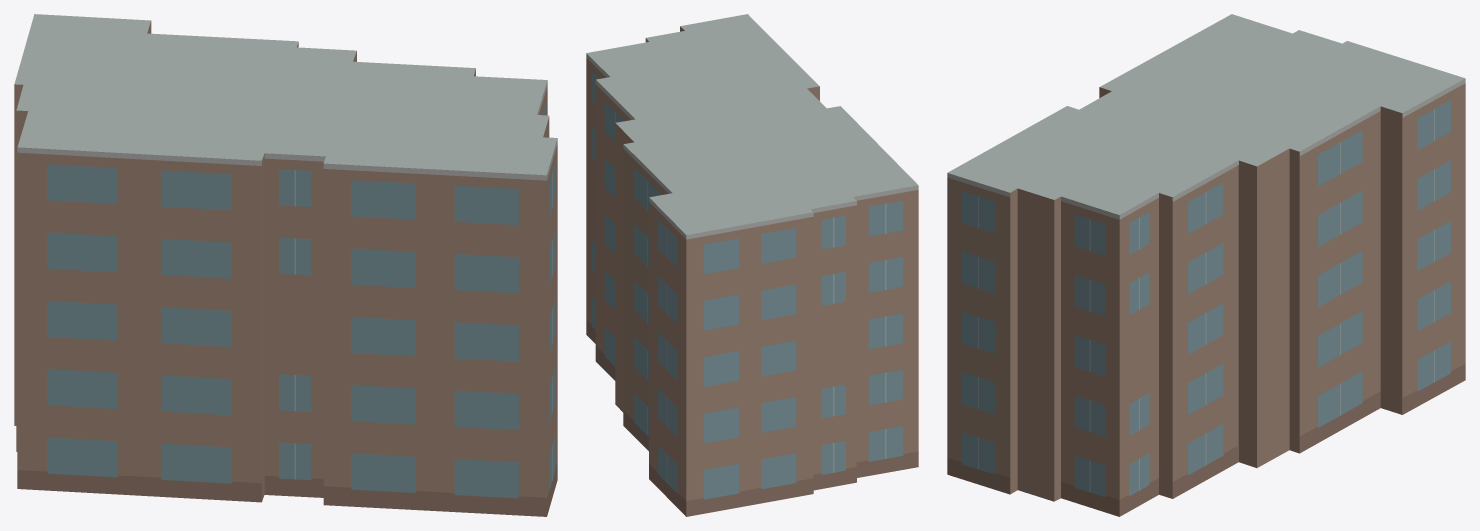
Rendered from survey-upis-32673579.glb.
3 views of the same model, side by side, from view 1: azimuth 30°, elevation 25°; view 2: azimuth 150°, elevation 25°; view 3: azimuth 270°, elevation 25° (orthographic). The views are drawn at different scales.
Parts seen in each view (by area): view 1: survey-upis-32673579.tmp; view 2: survey-upis-32673579.tmp; view 3: survey-upis-32673579.tmp.
Boxes of the visible parts, left/top/right/bottom form: survey-upis-32673579.tmp: left=14, top=14, right=557, bottom=516; survey-upis-32673579.tmp: left=586, top=14, right=918, bottom=516; survey-upis-32673579.tmp: left=947, top=14, right=1465, bottom=516.
Bounding box in the file's own units: 22.46 × 15.7 × 24.46.
